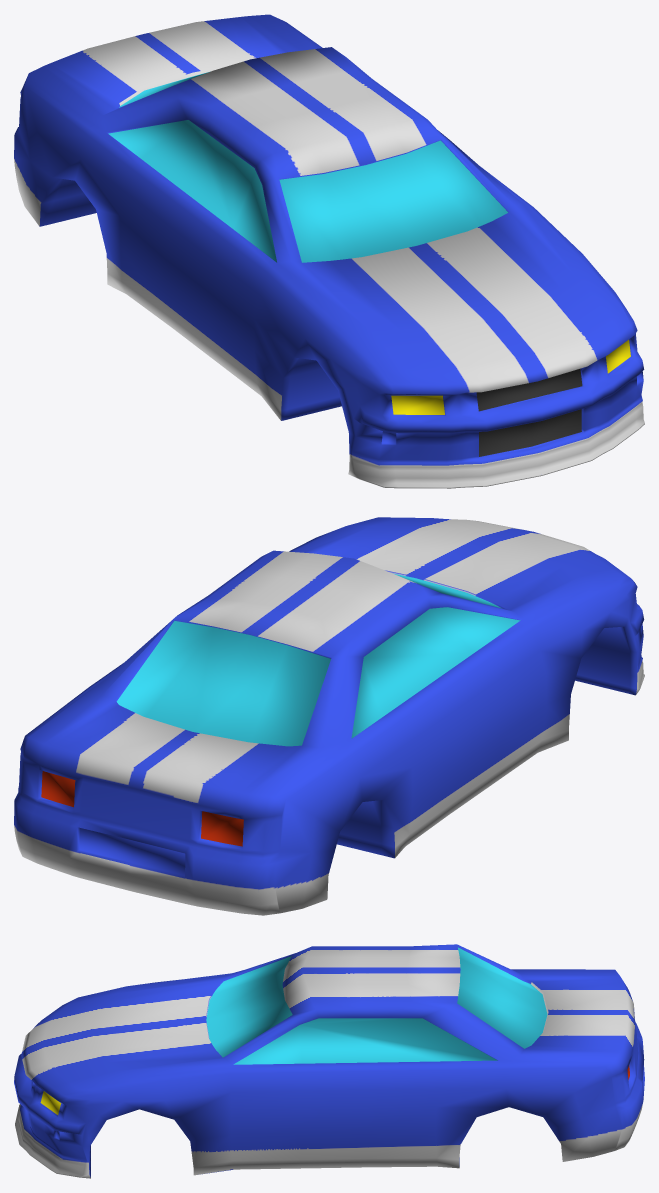
Rendered from SportCar.fbx.
3 renders of one model, top to bottom at view 1: azimuth 30°, elevation 25°; view 2: azimuth 150°, elevation 25°; view 3: azimuth 270°, elevation 25°, orthographic. The views are drawn at different scales.
Parts seen in each view (by area): view 1: Cube; view 2: Cube; view 3: Cube.
Boxes of the visible parts, <box> form: Cube: <box>14,14,644,488</box>; Cube: <box>14,517,644,915</box>; Cube: <box>14,944,644,1178</box>.
Bounding box in the file's own units: 2.57 × 1.71 × 6.29.
